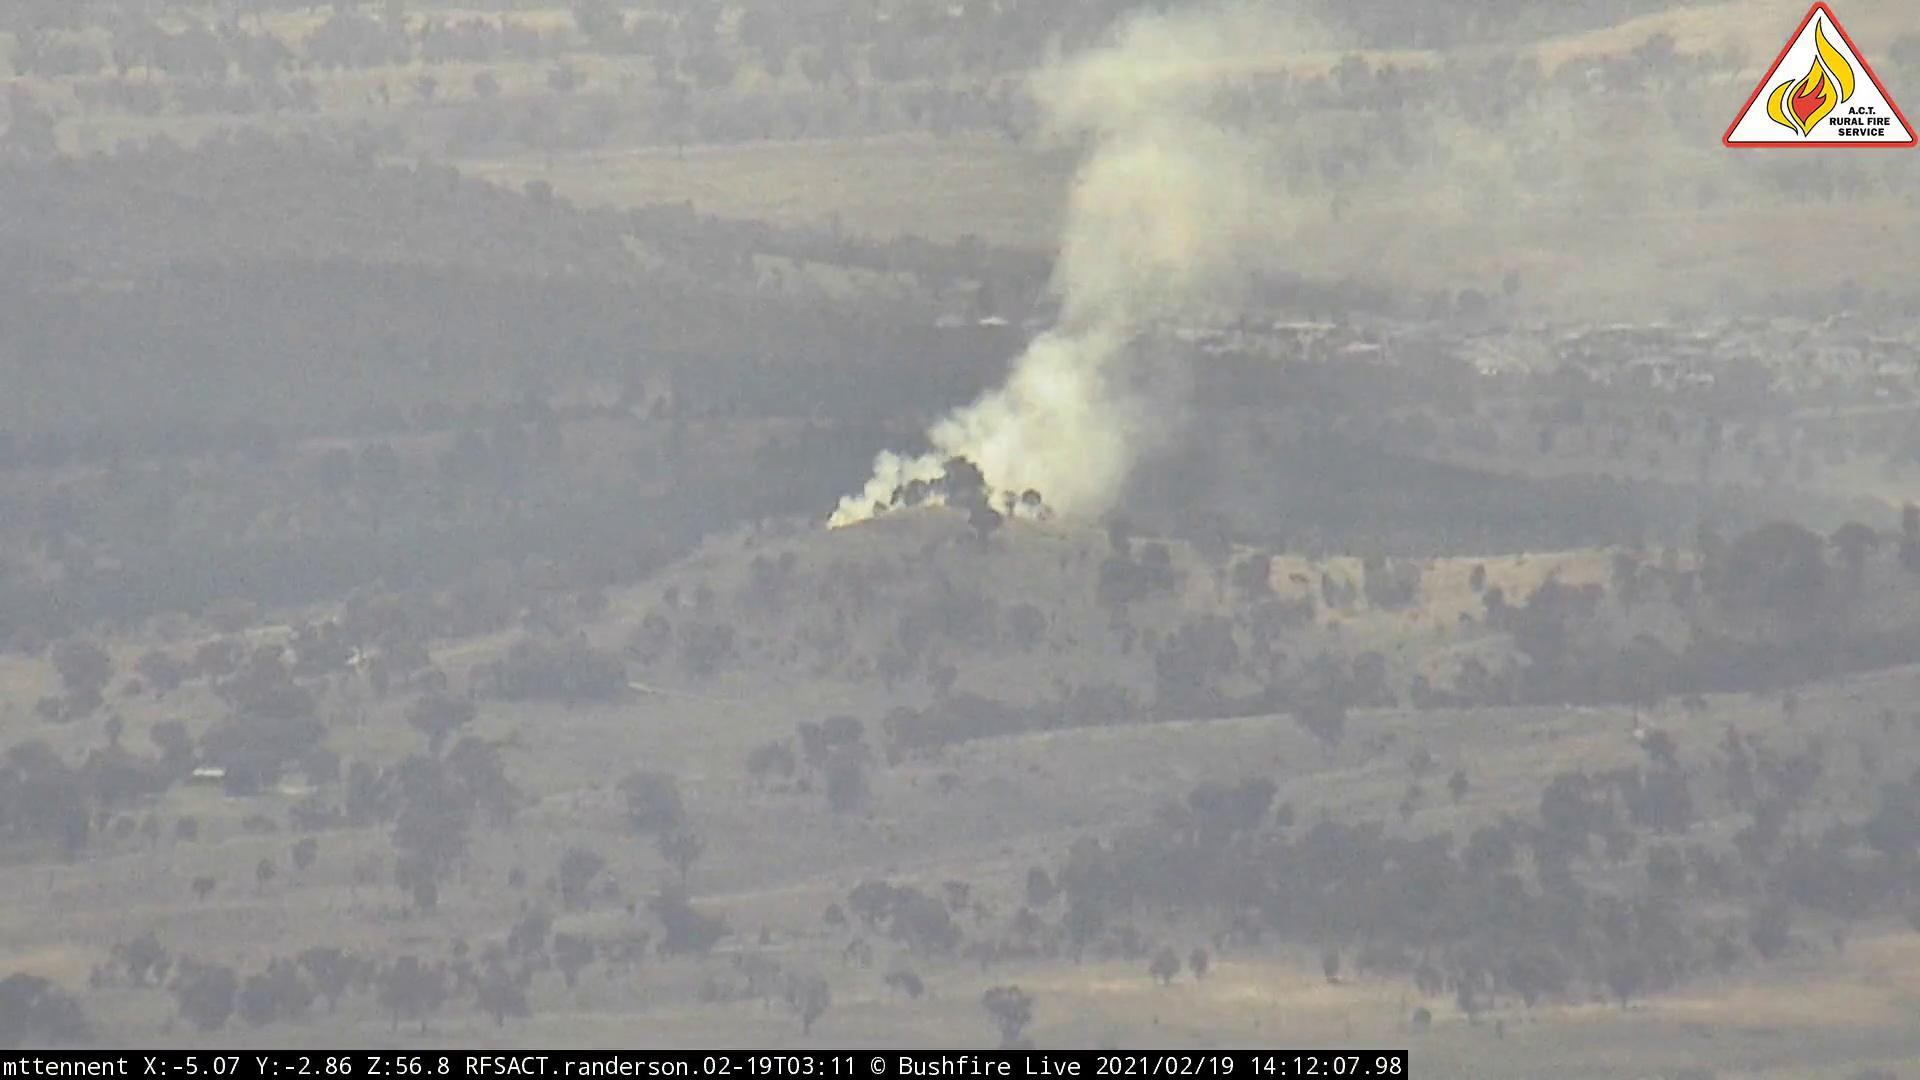Smoke: (814, 24, 1437, 549)
